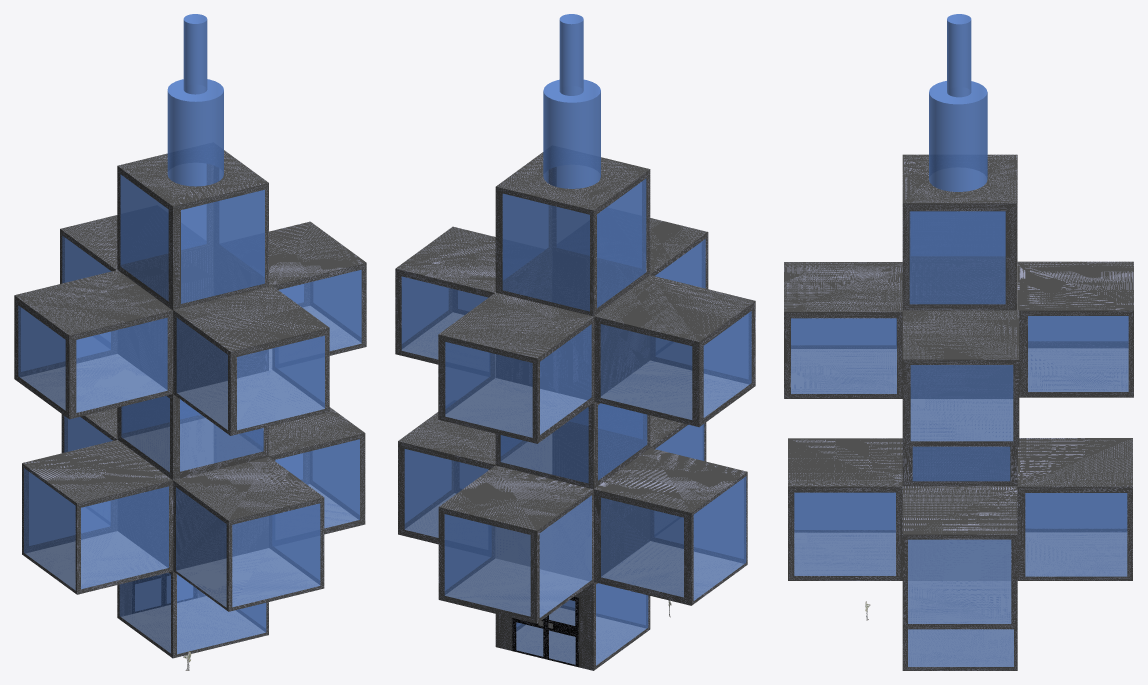
Rendered from glass-tower.dae.
The picture shows the model from 3 angles, left to right: view 1: azimuth 30°, elevation 25°; view 2: azimuth 150°, elevation 25°; view 3: azimuth 270°, elevation 25°; orthographic projection. The views are drawn at different scales.
Visible parts, largest first — view 1: SketchUp (×41); view 2: SketchUp (×42); view 3: SketchUp (×24).
Boxes of the visible parts, x1,y1,x2,y2 form: SketchUp (×41): [14, 14, 366, 658]; SketchUp (×42): [395, 14, 755, 670]; SketchUp (×24): [784, 14, 1133, 670].
Bounding box in the file's own units: 1066 × 1049 × 2080.
